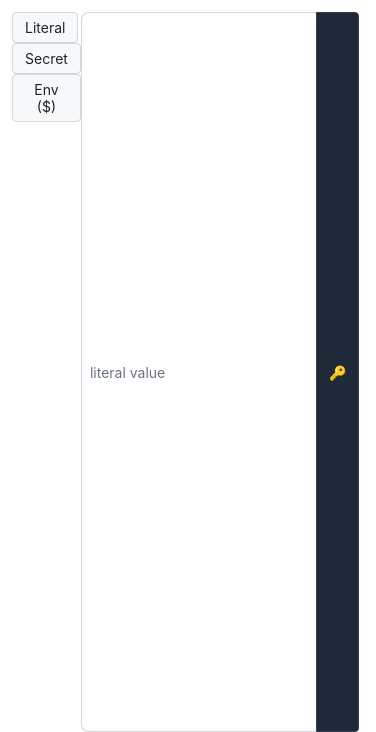
Scenario: SecretPicker — case 4: matchTier sort + 'matches KEY name' badge › sorts the matching key to top with badge when env KEY normalizes to vault key
Click the button named "Pick secret". click: (338, 372)
box: [316,12,359,731]
(page scrolled)
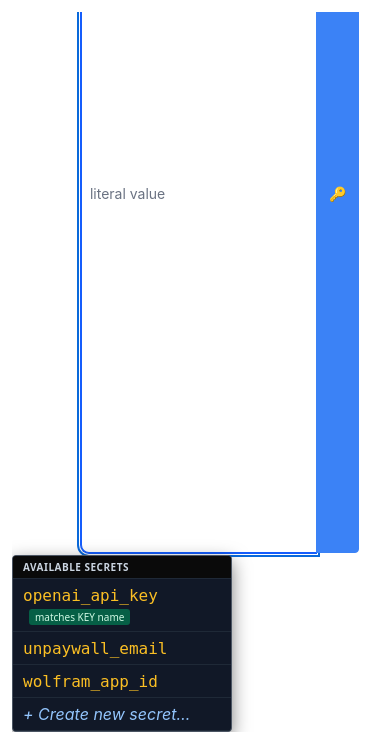
Result: the option "openai_api_key matches KEY name" is shown at [13,579,231,632]
